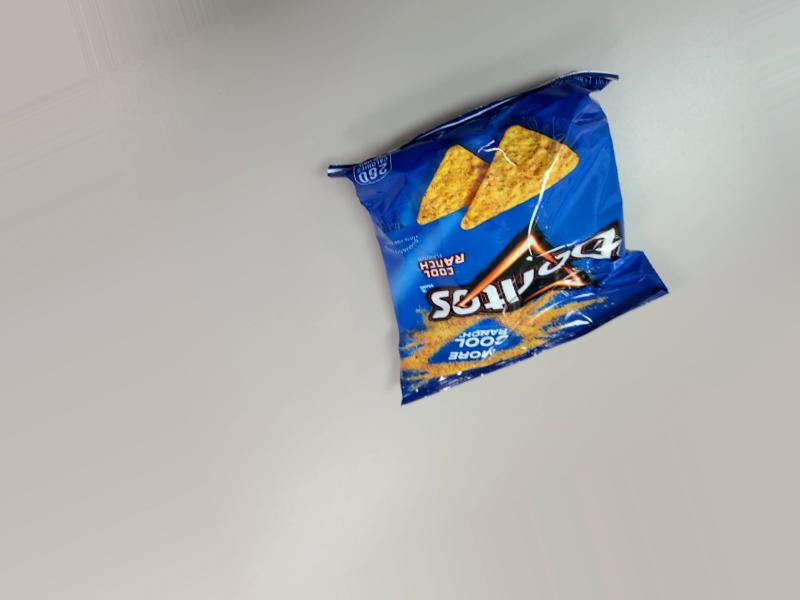doritos: (336, 98, 639, 375)
